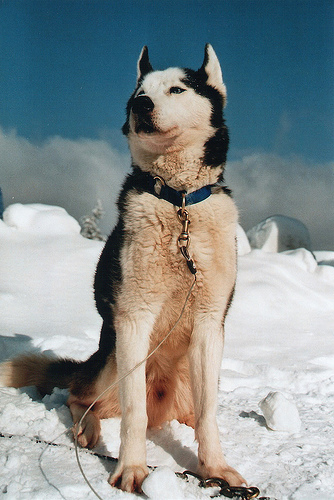dog: (0, 43, 265, 498)
